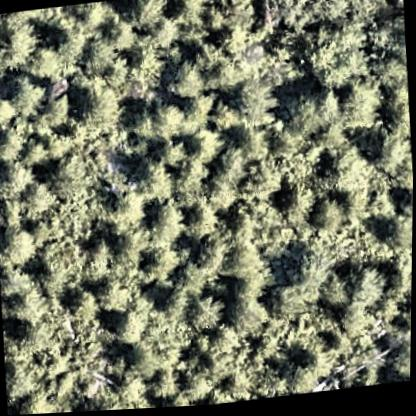tree-top: (304, 36, 364, 90), (337, 79, 388, 136), (46, 150, 98, 204), (282, 90, 333, 141), (34, 236, 87, 285), (232, 75, 279, 126), (76, 77, 122, 128), (181, 292, 229, 338), (0, 15, 44, 62), (347, 265, 390, 313), (6, 70, 50, 115), (0, 222, 43, 267), (166, 57, 209, 102), (7, 285, 52, 328), (111, 305, 154, 349), (94, 275, 137, 318), (277, 177, 319, 221), (80, 34, 122, 77), (182, 200, 224, 243), (229, 296, 271, 338), (371, 133, 411, 177), (282, 333, 327, 372), (149, 100, 189, 143), (229, 242, 269, 284), (139, 160, 179, 202), (27, 40, 67, 82), (322, 145, 362, 187), (147, 199, 186, 242), (80, 235, 118, 279), (309, 197, 349, 238), (20, 177, 60, 218), (185, 127, 225, 167), (64, 285, 103, 326), (112, 190, 151, 230), (0, 157, 38, 197), (385, 83, 411, 141), (338, 303, 377, 341), (192, 236, 231, 274), (320, 272, 355, 314), (215, 147, 251, 187), (0, 124, 34, 165), (16, 385, 62, 415), (369, 186, 403, 224), (240, 130, 275, 166), (104, 17, 138, 54), (342, 187, 374, 225), (130, 0, 170, 30), (178, 157, 213, 190), (17, 135, 50, 169), (151, 367, 183, 402), (76, 2, 114, 31), (158, 140, 191, 173), (221, 369, 252, 404), (389, 341, 412, 386), (287, 367, 319, 399), (168, 0, 208, 25), (204, 8, 230, 37), (0, 93, 18, 128)
